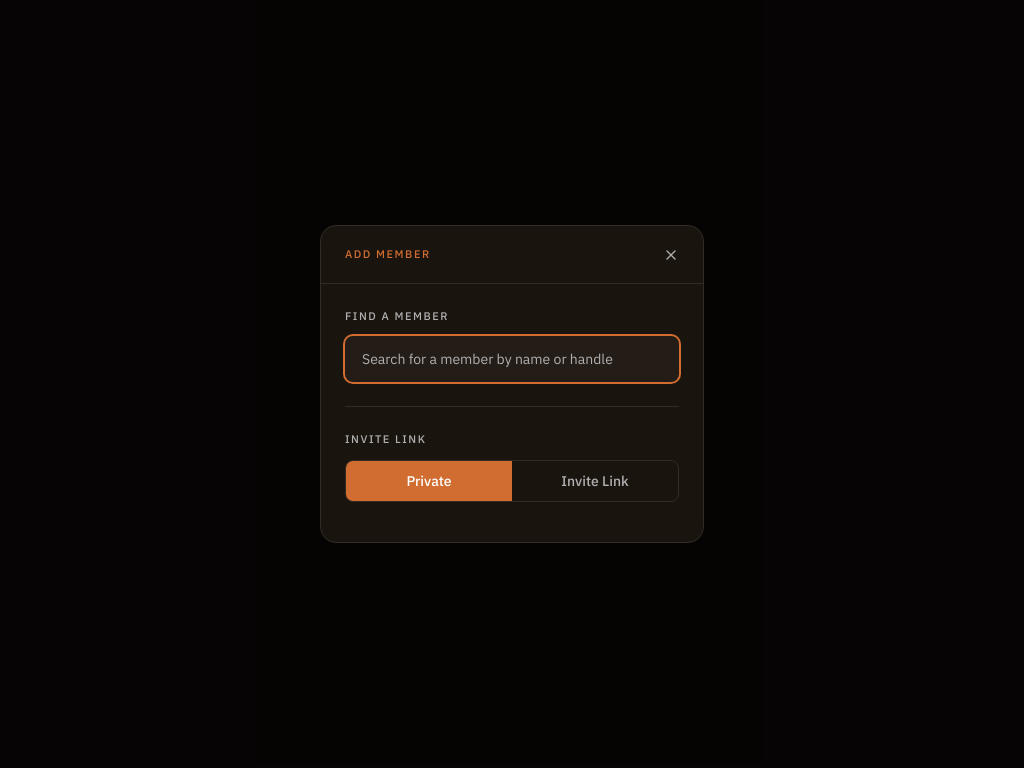
Scenario: AddMemberModal › Policy toggle › shows inline toggle error and reverts on API failure
The image size is (1024, 768).
Step 1. Click the button "Invite Link" → (595, 481), box [512, 461, 678, 501]
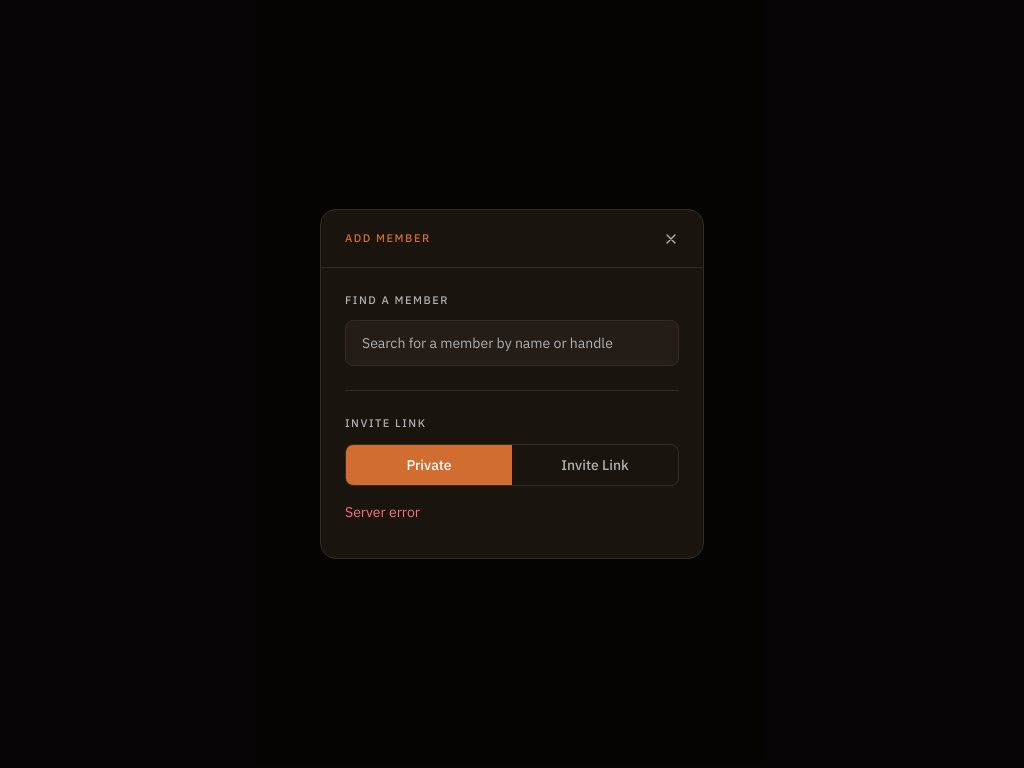
Expected: the text "Server error" is shown, [345, 503, 420, 521]
